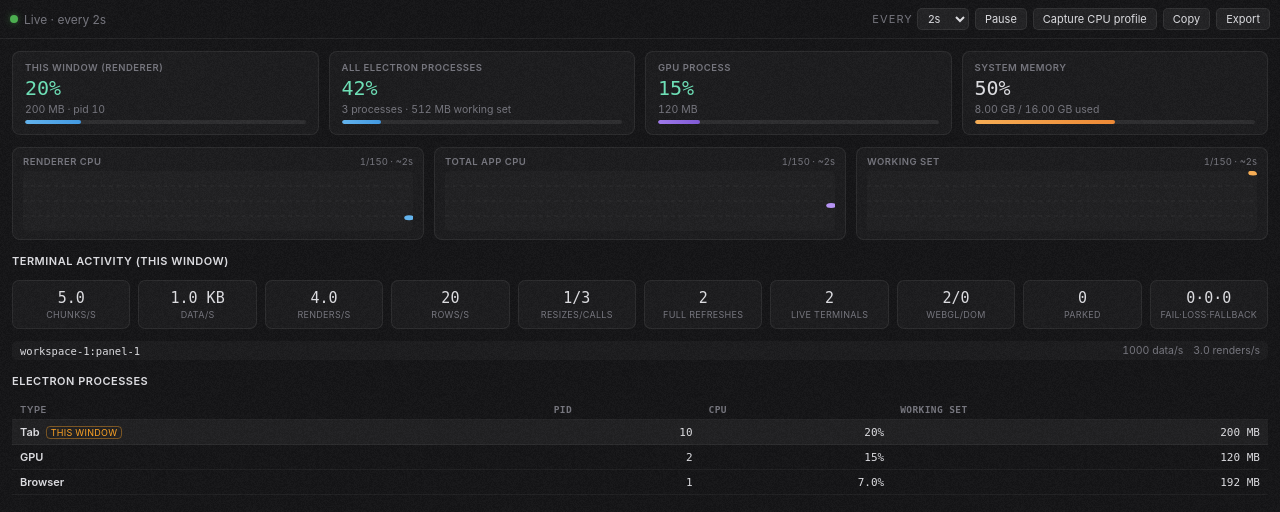
Scenario: PerformancePanel › changing the refresh interval persists it
Select "5s" in the dropdown labelled "Every": [943, 19] box [917,8,969,30]
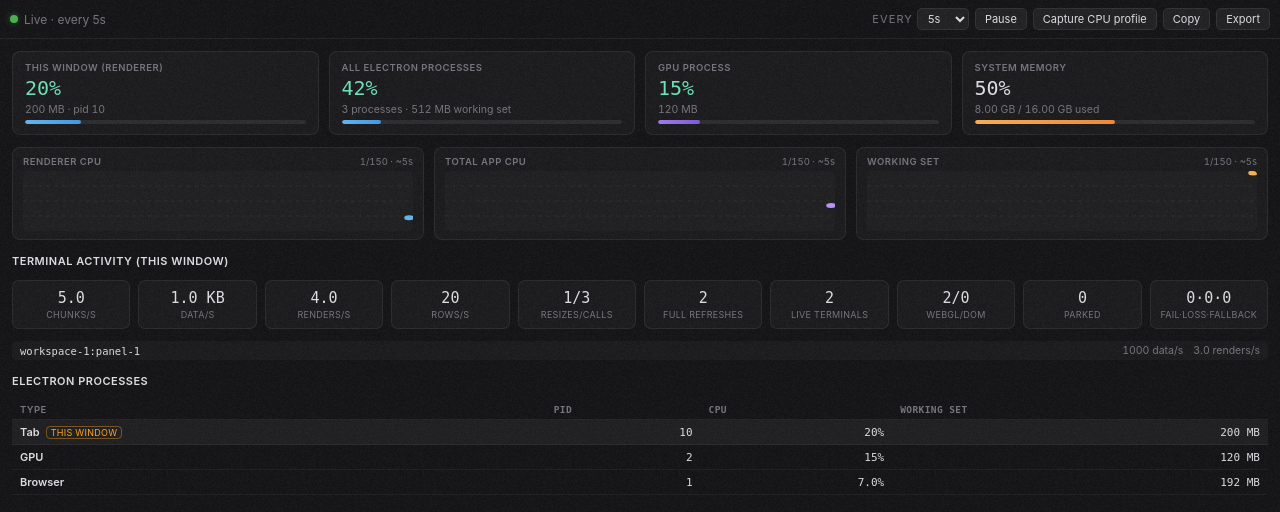
Expected: the text "every 5s" is shown, [24,12,106,26]
